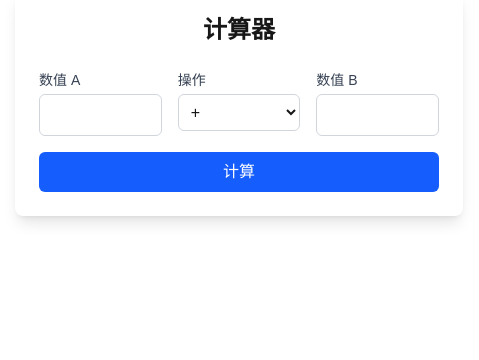
Test: Calculator Component › 处理计算错误
The image size is (479, 360).
Note: 填写表单 除以零场景
Type "5" into the number field labelled "数值 A" at (100,115), box 39,94 -> 162,136
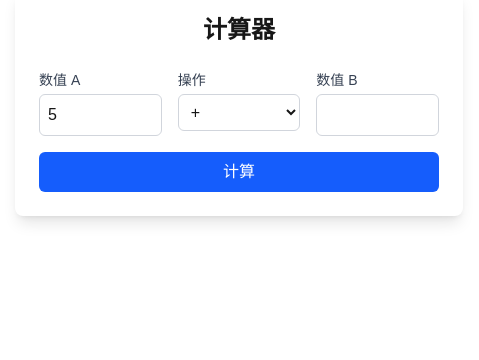
Type "0" into the number field labelled "数值 B" at (378,115), box 316,94 -> 439,136
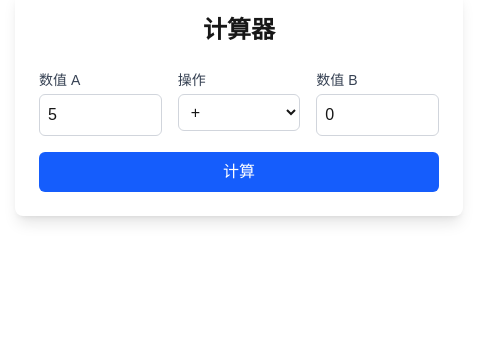
Select "÷" in the dropdown labelled "操作" at (239,112), box 178,94 -> 300,131
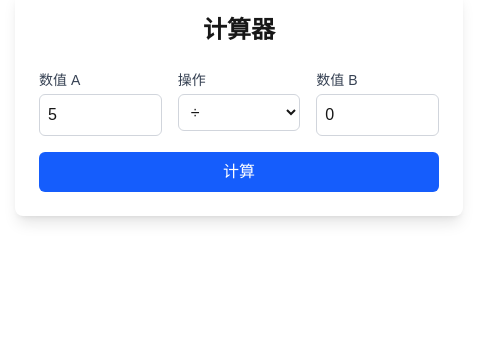
Submit the form from the button "计算", box 39,152 -> 439,192
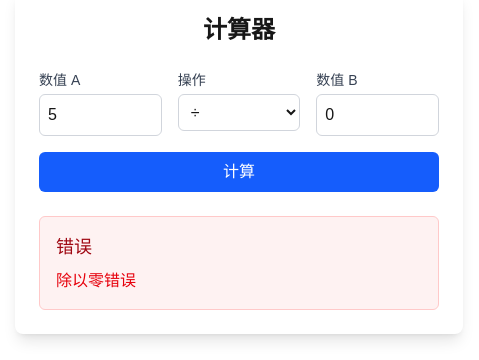
Check: the heading "错误" is shown, box 56,237 -> 92,257
Check: the text "除以零错误" is shown, box 56,272 -> 136,289
